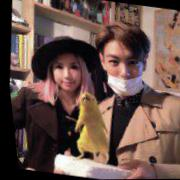NONE: (49, 56, 84, 93)
WRONG: (98, 46, 148, 97)
